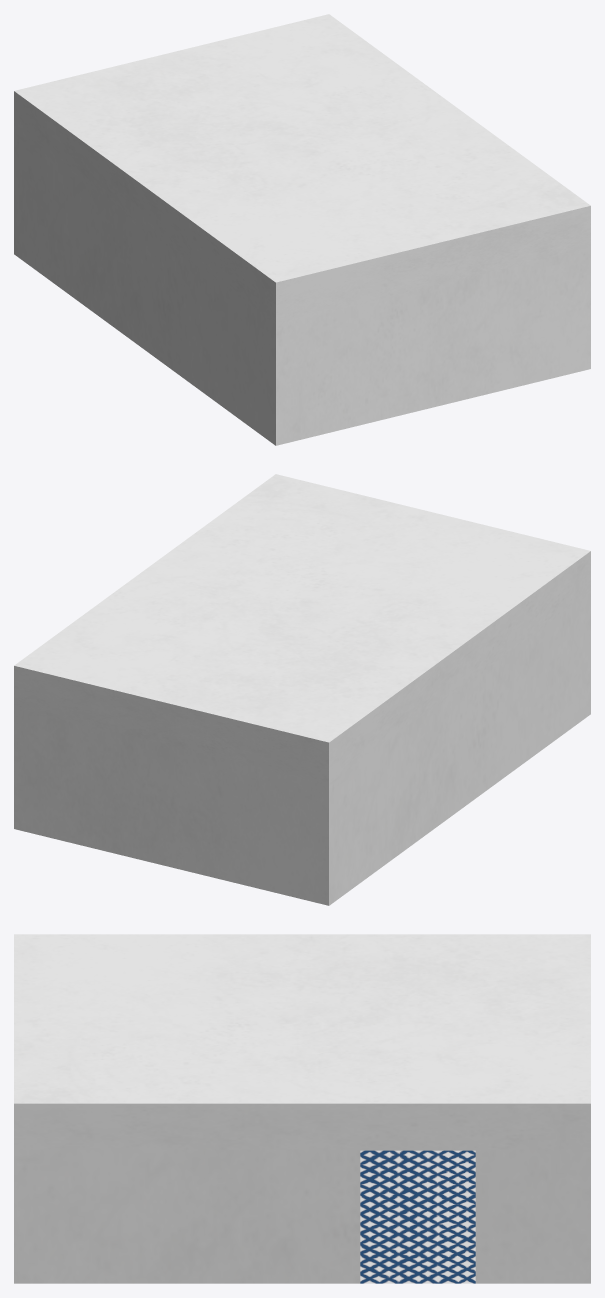
File: Kitchen.fbx
3 views of the same model, one above another, from view 1: azimuth 30°, elevation 25°; view 2: azimuth 150°, elevation 25°; view 3: azimuth 270°, elevation 25° (orthographic). The views are drawn at different scales.
Visible parts, largest first — view 1: pCube37; view 2: pCube37; view 3: pCube37.
Part boxes in pixels (<box>): pCube37: <box>14,14,590,445</box>; pCube37: <box>14,474,590,905</box>; pCube37: <box>14,934,590,1283</box>.
Size of the model in its own units: 5.64 by 2.79 by 8.12.
